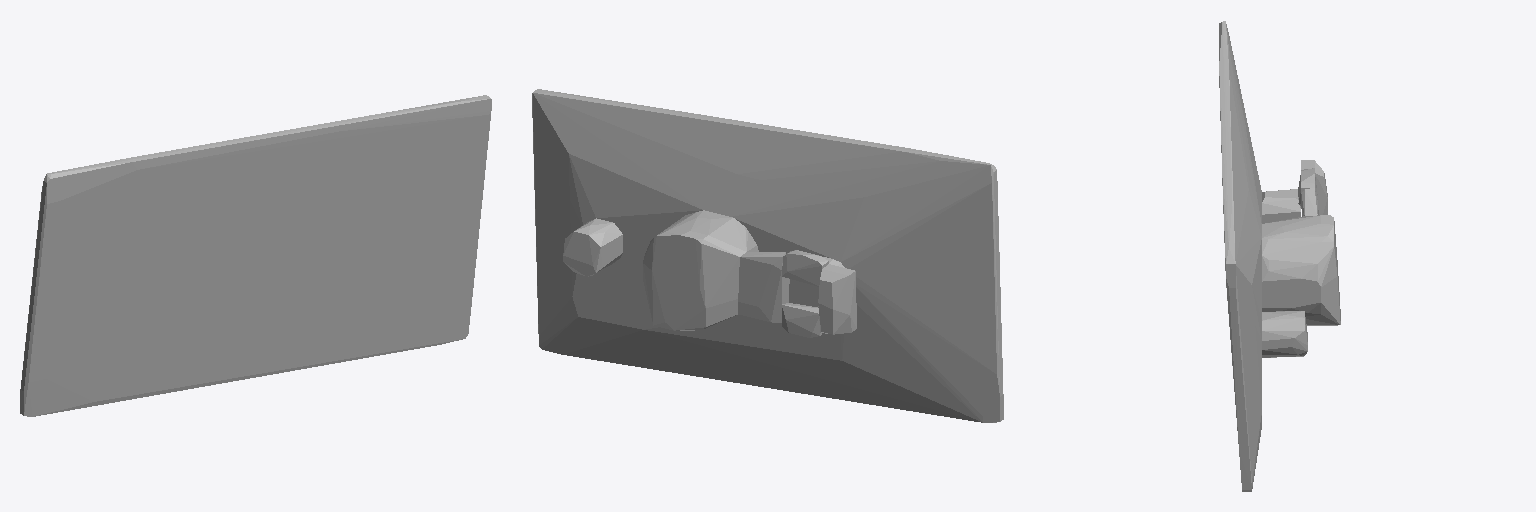
robot.urdf — root:
<robot name="root">
  <link name="link_thingiverse_packaged~part_3628351_packaged_convex_piece_0">
    <inertial>
      <origin rpy="0 0 0" xyz="0 0 0"/>
      <mass value="4.68E-01"/>
      <inertia ixx="4.50E-04" ixy="5.59E-05" ixz="-8.19E-05" iyy="2.04E-03" iyz="-2.94E-05" izz="1.66E-03"/>
    </inertial>
    <visual>
      <origin rpy="0 0 0" xyz="0 0 0"/>
      <geometry>
        <mesh filename="thingiverse_packaged~part_3628351_packaged_convex_piece_0.obj" scale="1.0000E+00 1.0000E+00 1.0000E+00"/>
      </geometry>
      <material name="">
        <color rgba="7.50E-01 7.50E-01 7.50E-01 1"/>
      </material>
    </visual>
    <collision>
      <origin rpy="0 0 0" xyz="0 0 0"/>
      <geometry>
        <mesh filename="thingiverse_packaged~part_3628351_packaged_convex_piece_0.obj" scale="1.0000E+00 1.0000E+00 1.0000E+00"/>
      </geometry>
    </collision>
  </link>
  <link name="link_thingiverse_packaged~part_3628351_packaged_convex_piece_1">
    <inertial>
      <origin rpy="0 0 0" xyz="0 0 0"/>
      <mass value="1.09E-02"/>
      <inertia ixx="2.09E-06" ixy="7.31E-06" ixz="-2.56E-06" iyy="4.12E-05" iyz="-4.51E-07" izz="4.25E-05"/>
    </inertial>
    <visual>
      <origin rpy="0 0 0" xyz="0 0 0"/>
      <geometry>
        <mesh filename="thingiverse_packaged~part_3628351_packaged_convex_piece_1.obj" scale="1.0000E+00 1.0000E+00 1.0000E+00"/>
      </geometry>
      <material name="">
        <color rgba="7.50E-01 7.50E-01 7.50E-01 1"/>
      </material>
    </visual>
    <collision>
      <origin rpy="0 0 0" xyz="0 0 0"/>
      <geometry>
        <mesh filename="thingiverse_packaged~part_3628351_packaged_convex_piece_1.obj" scale="1.0000E+00 1.0000E+00 1.0000E+00"/>
      </geometry>
    </collision>
  </link>
  <joint name="link_thingiverse_packaged~part_3628351_packaged_convex_piece_1_joint" type="fixed">
    <origin rpy="0 0 0" xyz="0 0 0"/>
    <parent link="link_thingiverse_packaged~part_3628351_packaged_convex_piece_0"/>
    <child link="link_thingiverse_packaged~part_3628351_packaged_convex_piece_1"/>
  </joint>
  <link name="link_thingiverse_packaged~part_3628351_packaged_convex_piece_2">
    <inertial>
      <origin rpy="0 0 0" xyz="0 0 0"/>
      <mass value="9.62E-02"/>
      <inertia ixx="4.97E-05" ixy="8.35E-06" ixz="-3.23E-07" iyy="2.72E-05" iyz="1.40E-06" izz="5.25E-05"/>
    </inertial>
    <visual>
      <origin rpy="0 0 0" xyz="0 0 0"/>
      <geometry>
        <mesh filename="thingiverse_packaged~part_3628351_packaged_convex_piece_2.obj" scale="1.0000E+00 1.0000E+00 1.0000E+00"/>
      </geometry>
      <material name="">
        <color rgba="7.50E-01 7.50E-01 7.50E-01 1"/>
      </material>
    </visual>
    <collision>
      <origin rpy="0 0 0" xyz="0 0 0"/>
      <geometry>
        <mesh filename="thingiverse_packaged~part_3628351_packaged_convex_piece_2.obj" scale="1.0000E+00 1.0000E+00 1.0000E+00"/>
      </geometry>
    </collision>
  </link>
  <joint name="link_thingiverse_packaged~part_3628351_packaged_convex_piece_2_joint" type="fixed">
    <origin rpy="0 0 0" xyz="0 0 0"/>
    <parent link="link_thingiverse_packaged~part_3628351_packaged_convex_piece_1"/>
    <child link="link_thingiverse_packaged~part_3628351_packaged_convex_piece_2"/>
  </joint>
  <link name="link_thingiverse_packaged~part_3628351_packaged_convex_piece_3">
    <inertial>
      <origin rpy="0 0 0" xyz="0 0 0"/>
      <mass value="9.51E-03"/>
      <inertia ixx="1.52E-06" ixy="-4.44E-06" ixz="-1.84E-06" iyy="2.23E-05" iyz="3.83E-07" izz="2.31E-05"/>
    </inertial>
    <visual>
      <origin rpy="0 0 0" xyz="0 0 0"/>
      <geometry>
        <mesh filename="thingiverse_packaged~part_3628351_packaged_convex_piece_3.obj" scale="1.0000E+00 1.0000E+00 1.0000E+00"/>
      </geometry>
      <material name="">
        <color rgba="7.50E-01 7.50E-01 7.50E-01 1"/>
      </material>
    </visual>
    <collision>
      <origin rpy="0 0 0" xyz="0 0 0"/>
      <geometry>
        <mesh filename="thingiverse_packaged~part_3628351_packaged_convex_piece_3.obj" scale="1.0000E+00 1.0000E+00 1.0000E+00"/>
      </geometry>
    </collision>
  </link>
  <joint name="link_thingiverse_packaged~part_3628351_packaged_convex_piece_3_joint" type="fixed">
    <origin rpy="0 0 0" xyz="0 0 0"/>
    <parent link="link_thingiverse_packaged~part_3628351_packaged_convex_piece_2"/>
    <child link="link_thingiverse_packaged~part_3628351_packaged_convex_piece_3"/>
  </joint>
  <link name="link_thingiverse_packaged~part_3628351_packaged_convex_piece_4">
    <inertial>
      <origin rpy="0 0 0" xyz="0 0 0"/>
      <mass value="7.18E-03"/>
      <inertia ixx="4.40E-06" ixy="-4.74E-06" ixz="-9.53E-07" iyy="6.83E-06" iyz="7.04E-07" izz="1.00E-05"/>
    </inertial>
    <visual>
      <origin rpy="0 0 0" xyz="0 0 0"/>
      <geometry>
        <mesh filename="thingiverse_packaged~part_3628351_packaged_convex_piece_4.obj" scale="1.0000E+00 1.0000E+00 1.0000E+00"/>
      </geometry>
      <material name="">
        <color rgba="7.50E-01 7.50E-01 7.50E-01 1"/>
      </material>
    </visual>
    <collision>
      <origin rpy="0 0 0" xyz="0 0 0"/>
      <geometry>
        <mesh filename="thingiverse_packaged~part_3628351_packaged_convex_piece_4.obj" scale="1.0000E+00 1.0000E+00 1.0000E+00"/>
      </geometry>
    </collision>
  </link>
  <joint name="link_thingiverse_packaged~part_3628351_packaged_convex_piece_4_joint" type="fixed">
    <origin rpy="0 0 0" xyz="0 0 0"/>
    <parent link="link_thingiverse_packaged~part_3628351_packaged_convex_piece_3"/>
    <child link="link_thingiverse_packaged~part_3628351_packaged_convex_piece_4"/>
  </joint>
  <link name="link_thingiverse_packaged~part_3628351_packaged_convex_piece_5">
    <inertial>
      <origin rpy="0 0 0" xyz="0 0 0"/>
      <mass value="6.48E-03"/>
      <inertia ixx="4.24E-06" ixy="-9.81E-06" ixz="-2.14E-06" iyy="2.71E-05" iyz="7.70E-07" izz="3.02E-05"/>
    </inertial>
    <visual>
      <origin rpy="0 0 0" xyz="0 0 0"/>
      <geometry>
        <mesh filename="thingiverse_packaged~part_3628351_packaged_convex_piece_5.obj" scale="1.0000E+00 1.0000E+00 1.0000E+00"/>
      </geometry>
      <material name="">
        <color rgba="7.50E-01 7.50E-01 7.50E-01 1"/>
      </material>
    </visual>
    <collision>
      <origin rpy="0 0 0" xyz="0 0 0"/>
      <geometry>
        <mesh filename="thingiverse_packaged~part_3628351_packaged_convex_piece_5.obj" scale="1.0000E+00 1.0000E+00 1.0000E+00"/>
      </geometry>
    </collision>
  </link>
  <joint name="link_thingiverse_packaged~part_3628351_packaged_convex_piece_5_joint" type="fixed">
    <origin rpy="0 0 0" xyz="0 0 0"/>
    <parent link="link_thingiverse_packaged~part_3628351_packaged_convex_piece_4"/>
    <child link="link_thingiverse_packaged~part_3628351_packaged_convex_piece_5"/>
  </joint>
  <link name="link_thingiverse_packaged~part_3628351_packaged_convex_piece_6">
    <inertial>
      <origin rpy="0 0 0" xyz="0 0 0"/>
      <mass value="2.42E-03"/>
      <inertia ixx="1.47E-06" ixy="-2.73E-06" ixz="7.81E-07" iyy="5.82E-06" iyz="-3.81E-07" izz="7.02E-06"/>
    </inertial>
    <visual>
      <origin rpy="0 0 0" xyz="0 0 0"/>
      <geometry>
        <mesh filename="thingiverse_packaged~part_3628351_packaged_convex_piece_6.obj" scale="1.0000E+00 1.0000E+00 1.0000E+00"/>
      </geometry>
      <material name="">
        <color rgba="7.50E-01 7.50E-01 7.50E-01 1"/>
      </material>
    </visual>
    <collision>
      <origin rpy="0 0 0" xyz="0 0 0"/>
      <geometry>
        <mesh filename="thingiverse_packaged~part_3628351_packaged_convex_piece_6.obj" scale="1.0000E+00 1.0000E+00 1.0000E+00"/>
      </geometry>
    </collision>
  </link>
  <joint name="link_thingiverse_packaged~part_3628351_packaged_convex_piece_6_joint" type="fixed">
    <origin rpy="0 0 0" xyz="0 0 0"/>
    <parent link="link_thingiverse_packaged~part_3628351_packaged_convex_piece_5"/>
    <child link="link_thingiverse_packaged~part_3628351_packaged_convex_piece_6"/>
  </joint>
  <link name="link_thingiverse_packaged~part_3628351_packaged_convex_piece_7">
    <inertial>
      <origin rpy="0 0 0" xyz="0 0 0"/>
      <mass value="2.76E-03"/>
      <inertia ixx="2.03E-06" ixy="-2.82E-06" ixz="-2.16E-06" iyy="7.20E-06" iyz="9.60E-07" izz="7.70E-06"/>
    </inertial>
    <visual>
      <origin rpy="0 0 0" xyz="0 0 0"/>
      <geometry>
        <mesh filename="thingiverse_packaged~part_3628351_packaged_convex_piece_7.obj" scale="1.0000E+00 1.0000E+00 1.0000E+00"/>
      </geometry>
      <material name="">
        <color rgba="7.50E-01 7.50E-01 7.50E-01 1"/>
      </material>
    </visual>
    <collision>
      <origin rpy="0 0 0" xyz="0 0 0"/>
      <geometry>
        <mesh filename="thingiverse_packaged~part_3628351_packaged_convex_piece_7.obj" scale="1.0000E+00 1.0000E+00 1.0000E+00"/>
      </geometry>
    </collision>
  </link>
  <joint name="link_thingiverse_packaged~part_3628351_packaged_convex_piece_7_joint" type="fixed">
    <origin rpy="0 0 0" xyz="0 0 0"/>
    <parent link="link_thingiverse_packaged~part_3628351_packaged_convex_piece_6"/>
    <child link="link_thingiverse_packaged~part_3628351_packaged_convex_piece_7"/>
  </joint>
</robot>

--- Render facts (derived) ---
The picture shows the robot from 3 angles, left to right: view 1: azimuth 30°, elevation 25°; view 2: azimuth 150°, elevation 25°; view 3: azimuth 270°, elevation 25°; orthographic projection.
Model root with 8 links and 7 joints (7 fixed), rooted at link_thingiverse_packaged~part_3628351_packaged_convex_piece_0, posed all joints at 0.
Visible links, largest first — view 1: link_thingiverse_packaged~part_3628351_packaged_convex_piece_0; view 2: link_thingiverse_packaged~part_3628351_packaged_convex_piece_0, link_thingiverse_packaged~part_3628351_packaged_convex_piece_2, link_thingiverse_packaged~part_3628351_packaged_convex_piece_4, link_thingiverse_packaged~part_3628351_packaged_convex_piece_1, link_thingiverse_packaged~part_3628351_packaged_convex_piece_5, link_thingiverse_packaged~part_3628351_packaged_convex_piece_7, link_thingiverse_packaged~part_3628351_packaged_convex_piece_6, link_thingiverse_packaged~part_3628351_packaged_convex_piece_3; view 3: link_thingiverse_packaged~part_3628351_packaged_convex_piece_0, link_thingiverse_packaged~part_3628351_packaged_convex_piece_2, link_thingiverse_packaged~part_3628351_packaged_convex_piece_1, link_thingiverse_packaged~part_3628351_packaged_convex_piece_3, link_thingiverse_packaged~part_3628351_packaged_convex_piece_5.
Boxes of the visible links, x1,y1,x2,y2 form: link_thingiverse_packaged~part_3628351_packaged_convex_piece_0: (20, 95, 491, 416); link_thingiverse_packaged~part_3628351_packaged_convex_piece_0: (532, 89, 1003, 422); link_thingiverse_packaged~part_3628351_packaged_convex_piece_2: (643, 210, 758, 330); link_thingiverse_packaged~part_3628351_packaged_convex_piece_4: (738, 252, 789, 322); link_thingiverse_packaged~part_3628351_packaged_convex_piece_1: (563, 218, 622, 276); link_thingiverse_packaged~part_3628351_packaged_convex_piece_5: (818, 264, 856, 334); link_thingiverse_packaged~part_3628351_packaged_convex_piece_7: (782, 250, 828, 286); link_thingiverse_packaged~part_3628351_packaged_convex_piece_6: (782, 303, 821, 337); link_thingiverse_packaged~part_3628351_packaged_convex_piece_3: (790, 256, 844, 307); link_thingiverse_packaged~part_3628351_packaged_convex_piece_0: (1219, 21, 1261, 491); link_thingiverse_packaged~part_3628351_packaged_convex_piece_2: (1262, 215, 1340, 325); link_thingiverse_packaged~part_3628351_packaged_convex_piece_1: (1262, 311, 1307, 357); link_thingiverse_packaged~part_3628351_packaged_convex_piece_3: (1262, 189, 1300, 223); link_thingiverse_packaged~part_3628351_packaged_convex_piece_5: (1301, 160, 1327, 214).
Size in the robot's own frame: 0.2272 by 0.0532 by 0.1294 metres.
Meshes: 8 distinct files referenced, 8 mesh visuals loaded (8 OBJ).
